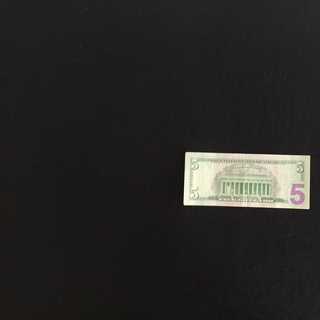5USDBack: (182, 151, 311, 210)
